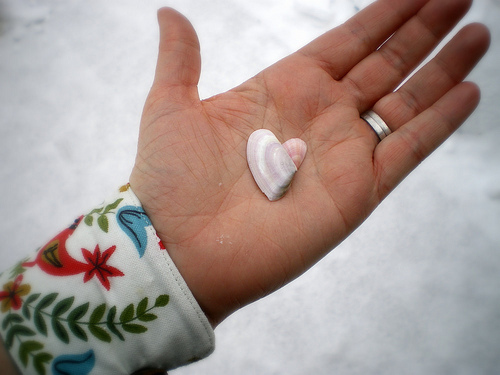palm: (143, 74, 362, 277)
